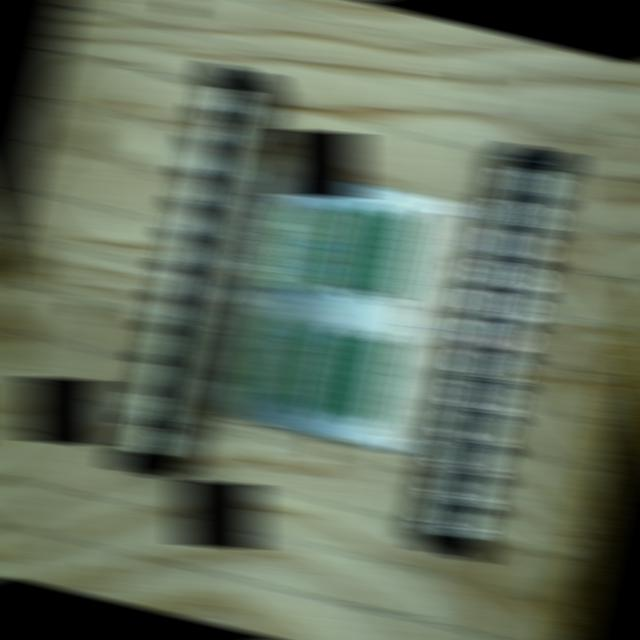Flathead_Block: (109, 59, 275, 484)
Phillips_Block: (416, 139, 578, 565)
Terminal_1: (267, 201, 321, 295), (243, 312, 295, 406)
Terminal_2: (324, 201, 375, 290), (321, 331, 371, 420), (349, 206, 399, 294), (295, 326, 345, 414), (346, 336, 396, 424)
